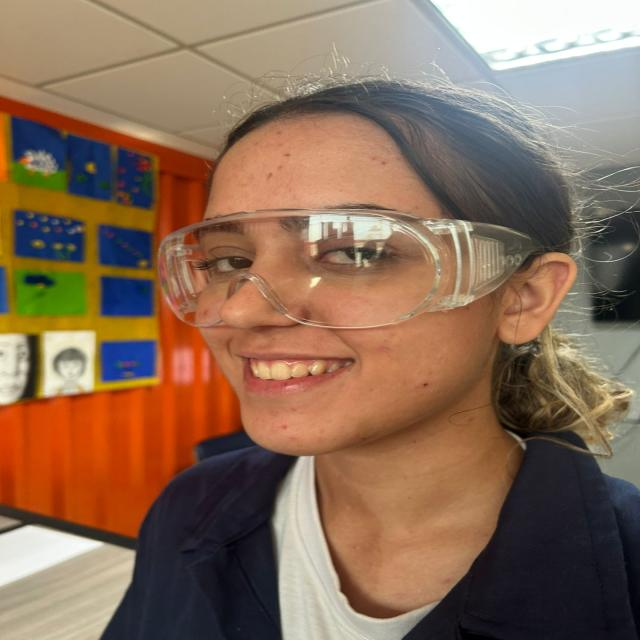oculos-epi: (158, 208, 542, 330)
